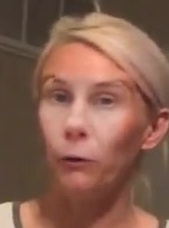eb_f: (37, 69, 135, 113)
